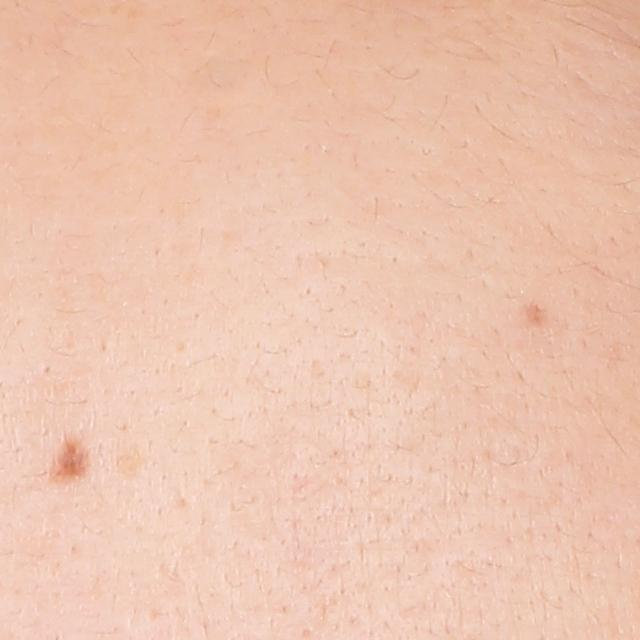nevus: (46, 436, 86, 484)
